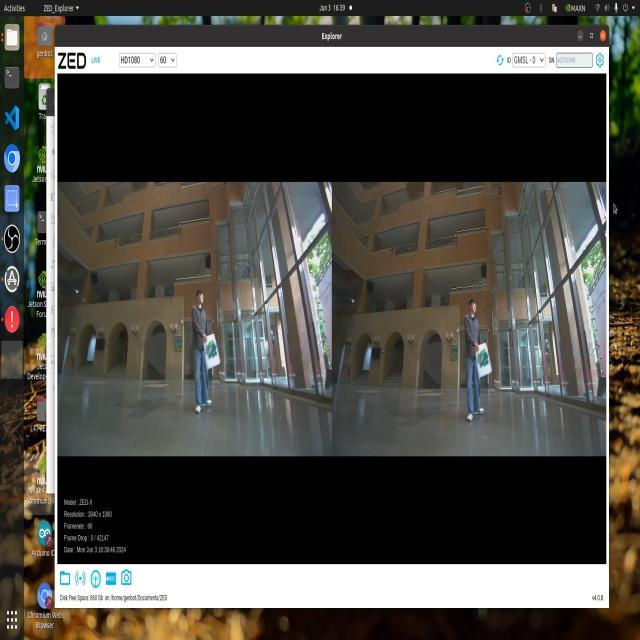green: (473, 341, 498, 378), (203, 336, 217, 368)
